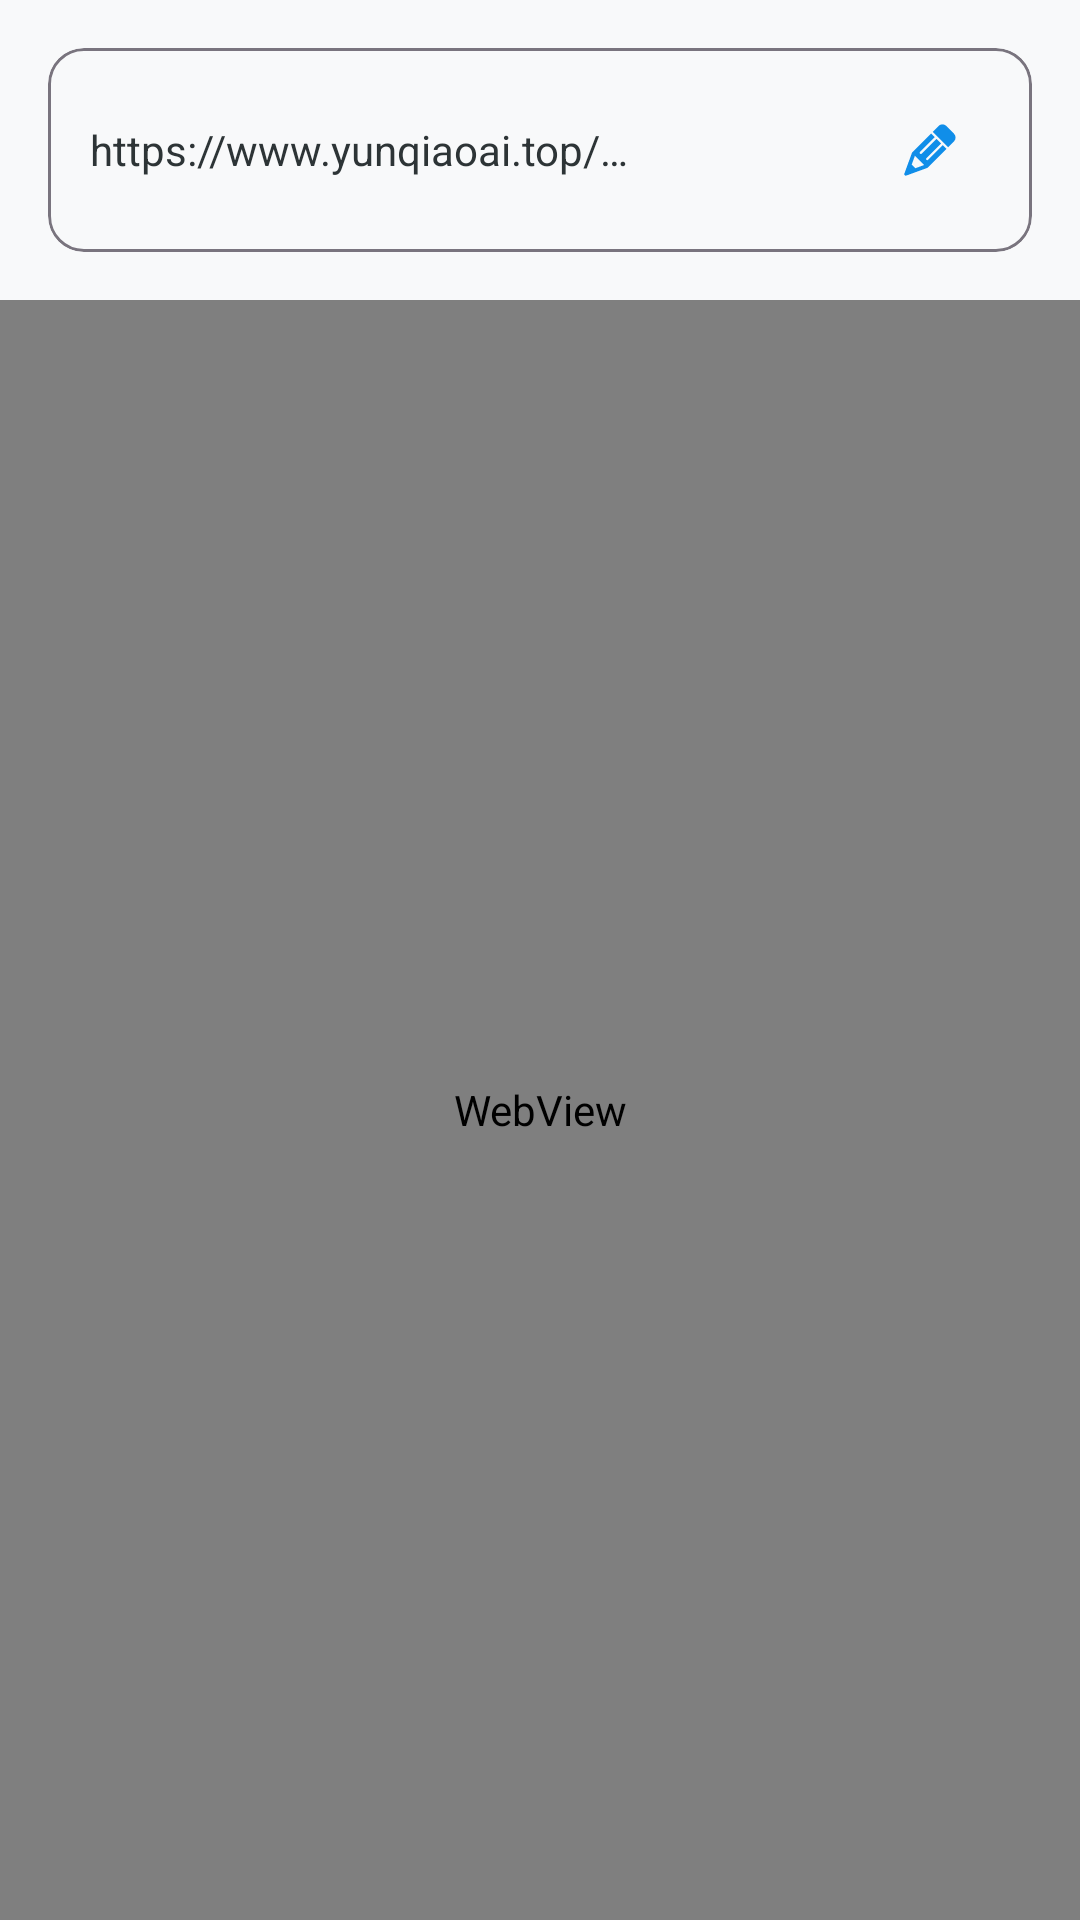

Where icons sit on this 1080x1920 app screen, as (x1, y1, x2, y2):
Edit: (904, 124, 956, 176)
